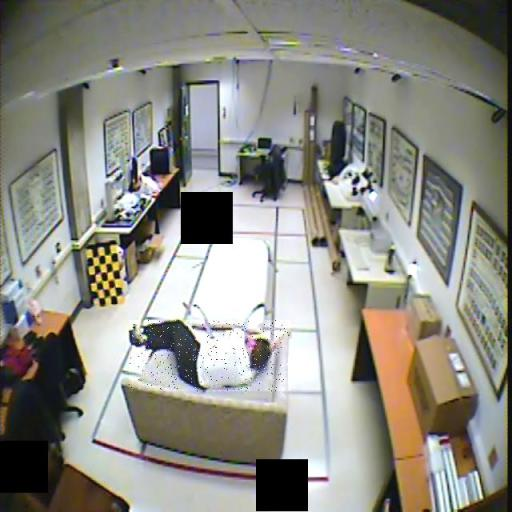Fall: (129, 320, 290, 391)
